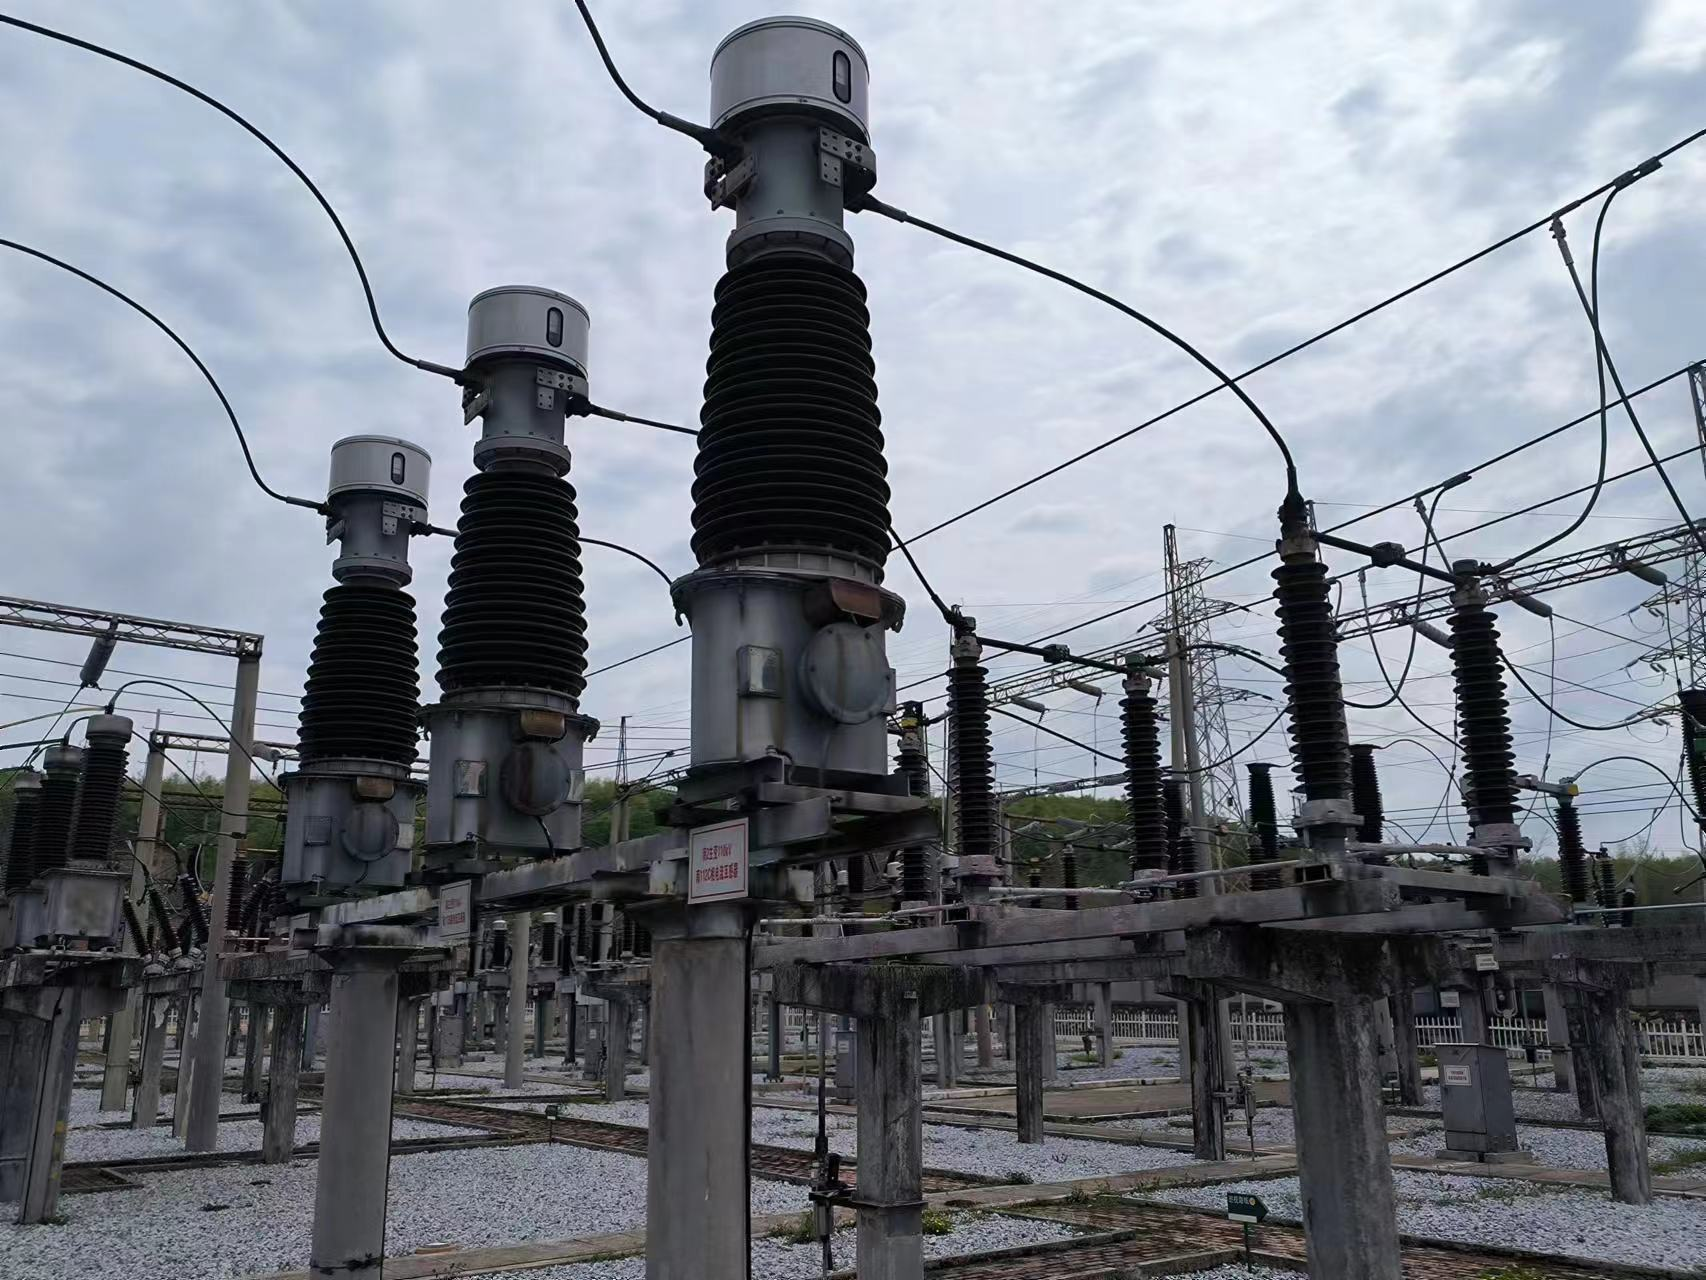Current transformer: (665, 9, 911, 783), (428, 280, 604, 859), (273, 426, 428, 891)
Disconnecting link: (1264, 502, 1533, 865), (940, 610, 1176, 893)
